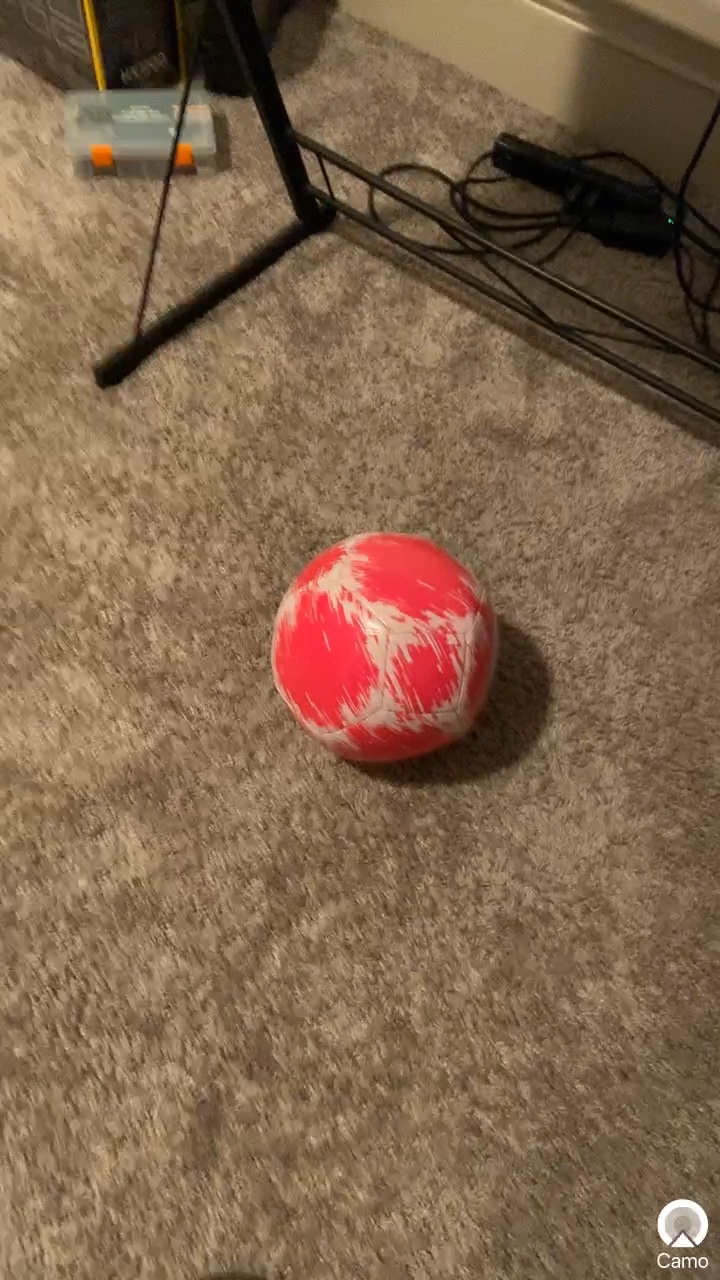Soccer_Ball: (267, 525, 519, 790)
